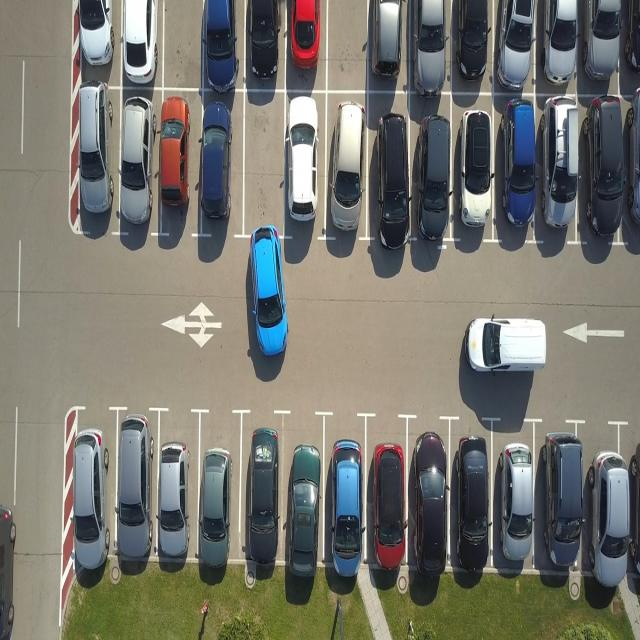space-empty: (242, 91, 288, 239), (324, 0, 372, 89), (162, 0, 207, 87)
space-occupied: (584, 431, 640, 605), (61, 406, 112, 583), (532, 434, 588, 586), (404, 411, 455, 577), (322, 412, 370, 577), (572, 104, 628, 245), (65, 84, 117, 234), (362, 410, 408, 578), (488, 417, 536, 577), (450, 412, 497, 574), (323, 90, 372, 245), (112, 406, 158, 571), (196, 408, 243, 568), (241, 409, 287, 572), (490, 102, 543, 242), (196, 91, 244, 245), (156, 408, 201, 568), (282, 411, 326, 574), (369, 94, 417, 241), (534, 102, 584, 241), (157, 87, 201, 240), (282, 92, 326, 243), (117, 86, 160, 238), (454, 106, 500, 246), (410, 98, 453, 241), (573, 2, 622, 97), (536, 0, 584, 93), (491, 0, 538, 91), (118, 0, 166, 88), (407, 2, 452, 95), (452, 0, 498, 90), (74, 0, 122, 86), (364, 0, 409, 90), (198, 0, 244, 87), (244, 0, 289, 88), (283, 0, 327, 89), (621, 101, 640, 240), (619, 0, 640, 92)
